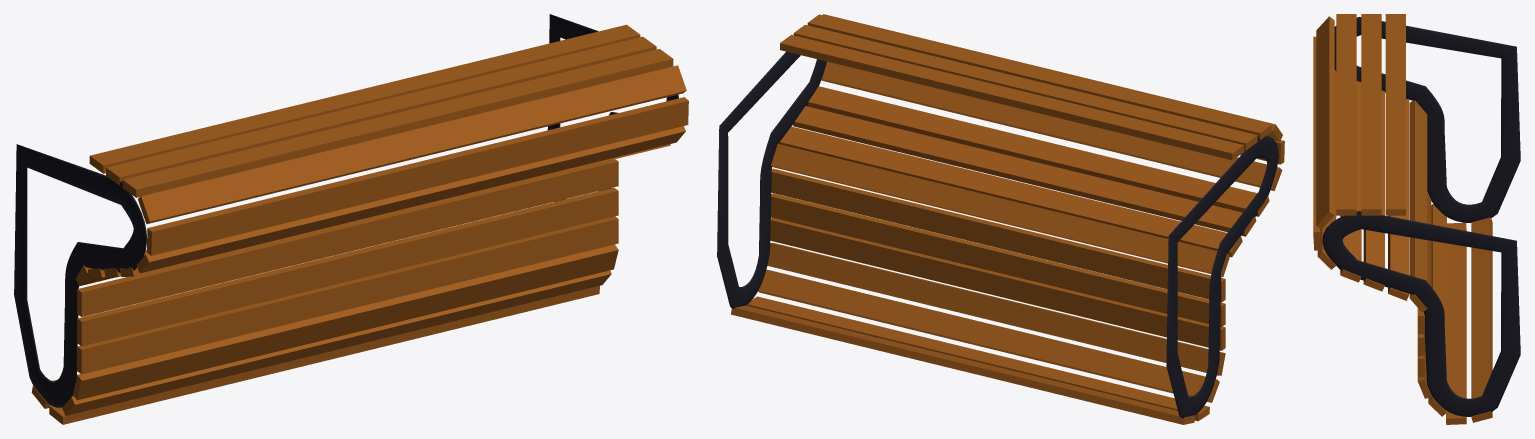
File: adanat-10008.glb
The picture shows the model from 3 angles, left to right: view 1: azimuth 30°, elevation 25°; view 2: azimuth 150°, elevation 25°; view 3: azimuth 270°, elevation 25°; orthographic projection. The views are drawn at different scales.
Parts seen in each view (by area): view 1: Cube.097, Cube.092, Cube.096, Cube.093, Cube.091, Cube.094, Cube.098, Line.010, Cube.099, Cube.100, Cube.085, Cube.090 (+3 smaller); view 2: Cube.089, Cube.092, Cube.091, Cube.090, Cube.094, Cube.093, Cube.087, Cube.086, Cube.088, Cube.085, Cube.100, Line.010 (+6 smaller); view 3: Line.008, Line.010, Cube.098, Cube.099, Cube.100, Cube.097, Cube.101, Cube.095, Cube.089, Cube.088, Cube.090, Cube.087 (+4 smaller).
Boxes of the visible parts, left/top/right/bottom form: Cube.097: left=138, top=65, right=686, bottom=224; Cube.092: left=77, top=187, right=618, bottom=346; Cube.096: left=146, top=97, right=688, bottom=255; Cube.093: left=77, top=216, right=618, bottom=374; Cube.091: left=77, top=159, right=618, bottom=316; Cube.094: left=73, top=244, right=618, bottom=400; Cube.098: left=122, top=49, right=673, bottom=197; Line.010: left=14, top=144, right=146, bottom=407; Cube.099: left=106, top=36, right=656, bottom=185; Cube.100: left=89, top=24, right=640, bottom=173; Cube.085: left=136, top=126, right=685, bottom=273; Cube.090: left=62, top=270, right=611, bottom=415; Cube.089: left=771, top=144, right=1230, bottom=276; Cube.092: left=771, top=193, right=1225, bottom=327; Cube.091: left=771, top=168, right=1225, bottom=302; Cube.090: left=758, top=269, right=1219, bottom=402; Cube.094: left=767, top=243, right=1225, bottom=375; Cube.093: left=770, top=217, right=1225, bottom=350; Cube.087: left=793, top=106, right=1256, bottom=236; Cube.086: left=807, top=86, right=1269, bottom=216; Cube.088: left=778, top=126, right=1242, bottom=257; Cube.085: left=821, top=61, right=1282, bottom=190; Cube.100: left=780, top=35, right=1243, bottom=160; Line.010: left=1166, top=136, right=1278, bottom=418; Line.008: left=1322, top=211, right=1520, bottom=416; Line.010: left=1334, top=17, right=1520, bottom=222; Cube.098: left=1336, top=14, right=1356, bottom=215; Cube.099: left=1361, top=14, right=1381, bottom=215; Cube.100: left=1385, top=14, right=1405, bottom=215; Cube.097: left=1316, top=16, right=1334, bottom=229; Cube.101: left=1471, top=217, right=1492, bottom=422; Cube.095: left=1446, top=222, right=1466, bottom=424; Cube.089: left=1409, top=100, right=1427, bottom=312; Cube.088: left=1388, top=99, right=1409, bottom=300; Cube.090: left=1428, top=204, right=1446, bottom=416; Cube.087: left=1363, top=90, right=1384, bottom=291.
Bounding box in the file's own units: 1.79 × 0.9202 × 0.8033.
